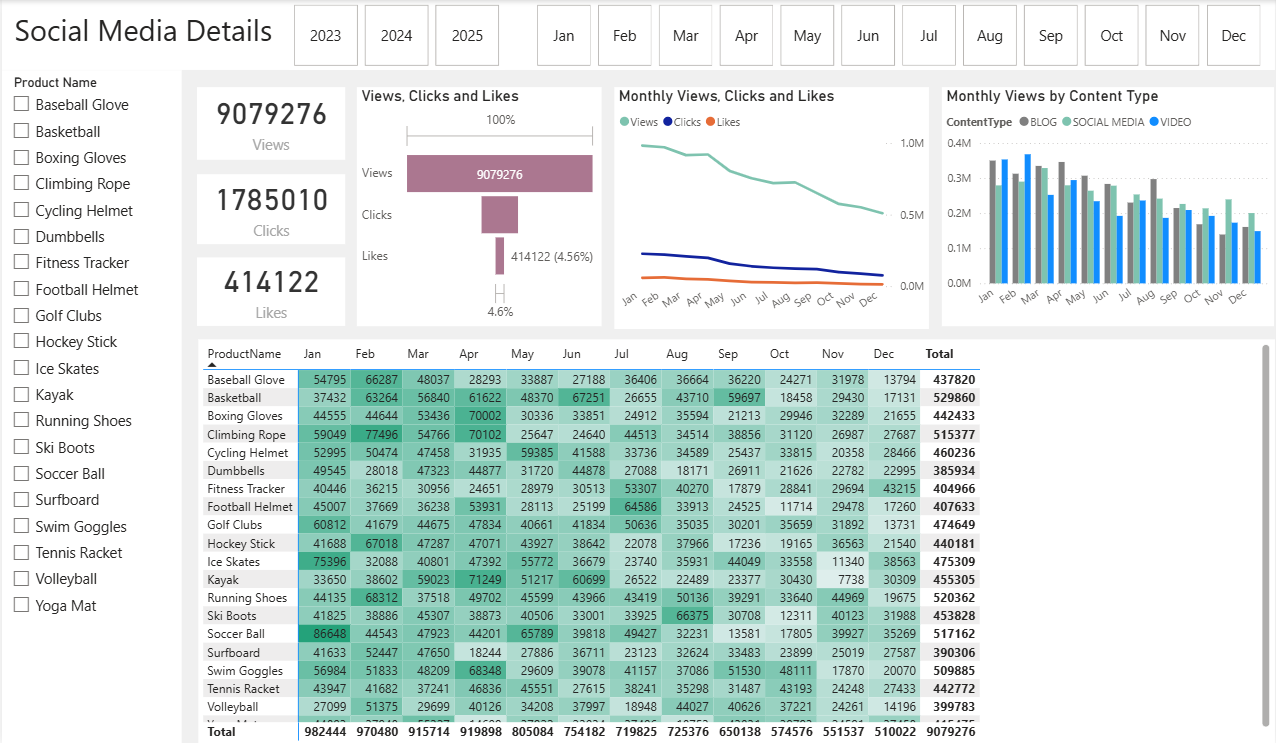

Layout of this report page (visuals, bound fields, positions):
{"tool":"powerbi","page":{"name":"Social Media Details","canvas":[1400,820],"ordinal":2},"visuals":[{"type":"textbox","box":[0,0,1400.3,77.2],"z":0},{"type":"slicer","fields":{"Values":["dim_product.ProductName"]},"box":[0,77.2,197.4,742.4],"z":1000},{"type":"advancedSlicerVisual","fields":{"Values":["Date.Year"]},"box":[316.1,0,237.4,77.2],"z":2000},{"type":"advancedSlicerVisual","fields":{"Values":["Date.MonthNameShort"]},"box":[583.6,0,816.7,77.2],"z":3000},{"type":"advanceCardE03760C5AB684758B56AA29F9E6C257B","fields":{"mainMeasure":["_mesures.Views"]},"box":[214.3,95.7,162.9,80],"z":4000},{"type":"advanceCardE03760C5AB684758B56AA29F9E6C257B","fields":{"mainMeasure":["_mesures.Clicks"]},"box":[214.3,191.4,162.9,77.1],"z":5000},{"type":"advanceCardE03760C5AB684758B56AA29F9E6C257B","fields":{"mainMeasure":["_mesures.Likes"]},"box":[214.3,282.9,162.9,75.7],"z":6000},{"type":"lineChart","title":"Monthly Views, Clicks and Likes ","fields":{"Category":["Date.MonthNameShort"],"Y2":["_mesures.Views","_mesures.Clicks","_mesures.Likes"]},"box":[673.7,95.8,346.1,266],"z":7000},{"type":"clusteredColumnChart","title":"Monthly Views by Content Type","fields":{"Category":["Date.MonthNameShort"],"Series":["fact_engagement_data.ContentType"],"Y":["_mesures.Views"]},"box":[1034.3,95.7,365.7,262.9],"z":8000},{"type":"pivotTable","fields":{"Rows":["dim_product.ProductName"],"Columns":["Date.MonthNameShort"],"Values":["_mesures.Views"]},"box":[216,373.3,1184.3,446.3],"z":9000},{"type":"funnel","title":"Views, Clicks and Likes","fields":{"Y":["_mesures.Views","_mesures.Clicks","_mesures.Likes"]},"box":[390.5,95.8,268.9,263.2],"z":10000}]}

Visuals, with their boxes in screenshot pixels (x1, y1, x2, y2), scaled from the page's 1400x820 canvas onto the 1276x743 screenshot:
textbox: Rect(0, 0, 1275, 70)
slicer - dim_product.ProductName: Rect(0, 70, 180, 742)
advancedSlicerVisual - Date.Year: Rect(288, 0, 504, 70)
advancedSlicerVisual - Date.MonthNameShort: Rect(532, 0, 1275, 70)
advanceCardE03760C5AB684758B56AA29F9E6C257B - _mesures.Views: Rect(195, 87, 344, 159)
advanceCardE03760C5AB684758B56AA29F9E6C257B - _mesures.Clicks: Rect(195, 173, 344, 243)
advanceCardE03760C5AB684758B56AA29F9E6C257B - _mesures.Likes: Rect(195, 256, 344, 325)
"Monthly Views, Clicks and Likes " lineChart: Rect(614, 87, 929, 328)
"Monthly Views by Content Type" clusteredColumnChart: Rect(943, 87, 1275, 325)
pivotTable - dim_product.ProductName x Date.MonthNameShort: Rect(197, 338, 1275, 742)
"Views, Clicks and Likes" funnel: Rect(356, 87, 601, 325)
